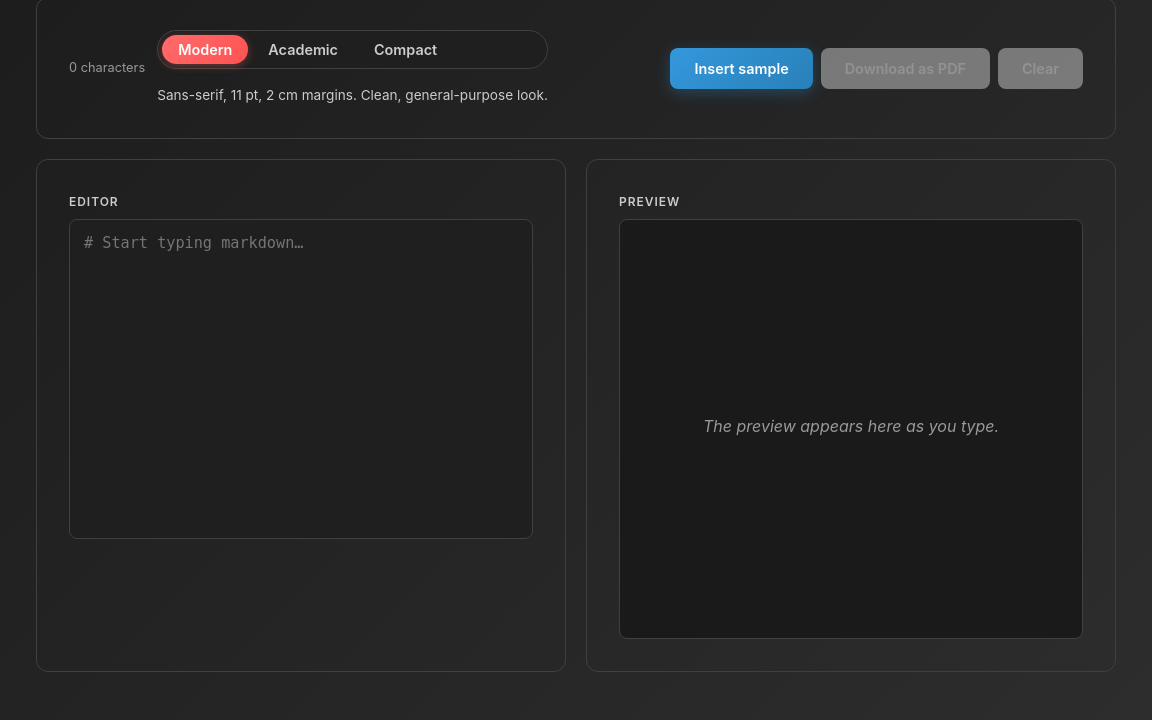
<MarkdownToPdf /> — page render › typing in the editor updates the preview
(page scrolled)
In the text box named "markdown editor": (301, 379) x1=69 y1=219 x2=533 y2=539, type "# Hello pdf"
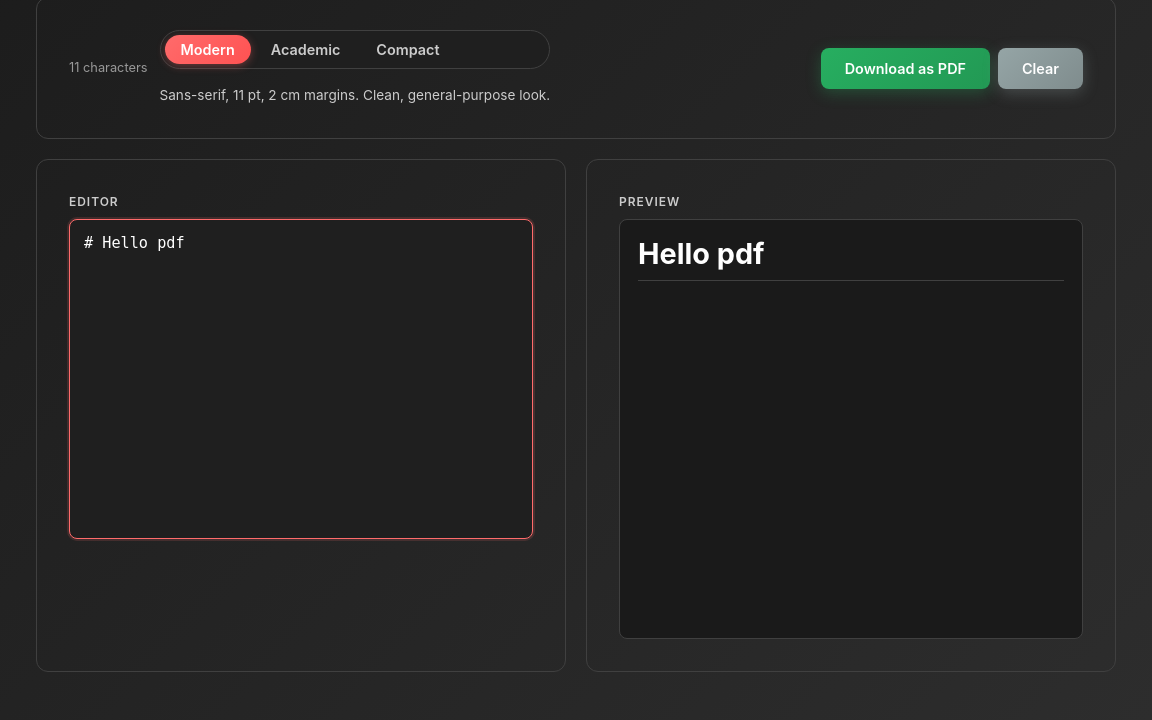
Expected: the heading "Hello pdf" is shown, x1=638 y1=236 x2=1064 y2=281
